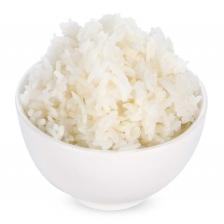rice: (18, 12, 202, 149)
